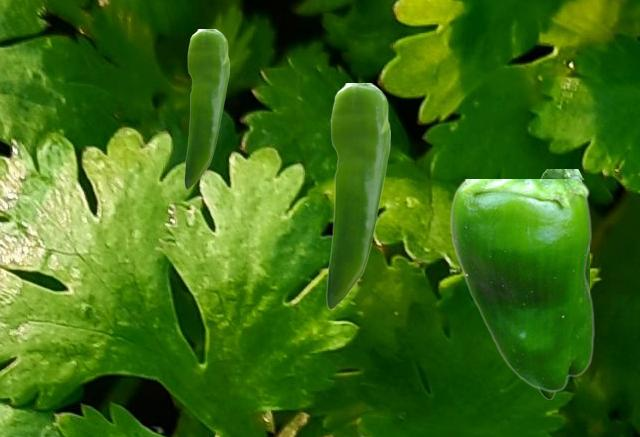green_chili: (449, 179, 593, 391), (326, 83, 389, 308), (184, 29, 228, 188), (540, 169, 588, 280)
